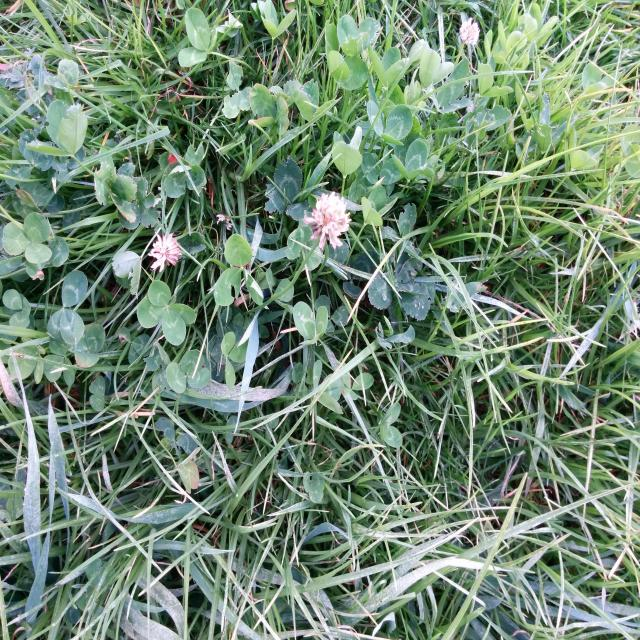Four Leaf Clover: (138, 280, 196, 346)
